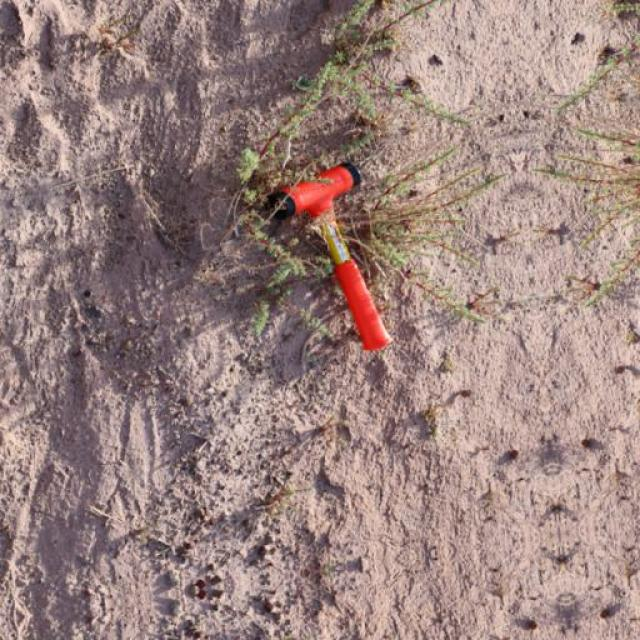mallet: (267, 159, 393, 351)
